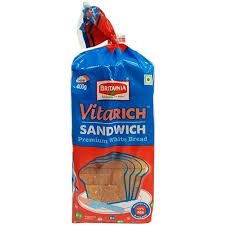bread: (63, 29, 160, 222)
